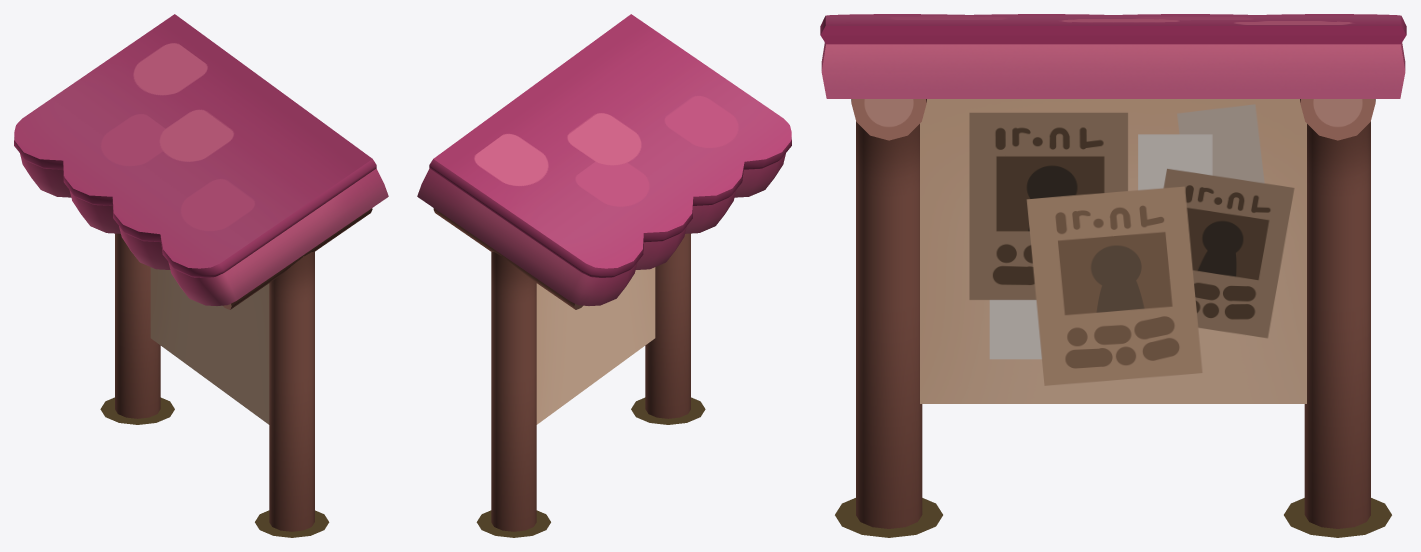
Rendered from Mu_NoteBoard.fbx.
3 renders of one model, left to right at view 1: azimuth 30°, elevation 25°; view 2: azimuth 150°, elevation 25°; view 3: azimuth 270°, elevation 25°, orthographic. The views are drawn at different scales.
Visible parts, largest first — view 1: Mu_NoteBoard_a, Mu_NoteBoard_b, Mu_NoteBoard_shadow; view 2: Mu_NoteBoard_a, Mu_NoteBoard_b, Mu_NoteBoard_shadow; view 3: Mu_NoteBoard_b, Mu_NoteBoard_a, Mu_NoteBoard_shadow.
Boxes of the visible parts, x1=… form: Mu_NoteBoard_a: x1=14, y1=14, x2=388, y2=531; Mu_NoteBoard_b: x1=150, y1=267, x2=269, y2=424; Mu_NoteBoard_shadow: x1=100, y1=397, x2=329, y2=537; Mu_NoteBoard_a: x1=417, y1=14, x2=791, y2=531; Mu_NoteBoard_b: x1=536, y1=267, x2=655, y2=424; Mu_NoteBoard_shadow: x1=476, y1=397, x2=705, y2=537; Mu_NoteBoard_b: x1=920, y1=99, x2=1306, y2=403; Mu_NoteBoard_a: x1=820, y1=14, x2=1406, y2=528; Mu_NoteBoard_shadow: x1=835, y1=498, x2=1391, y2=537.
Size of the model in its own units: 133 by 241 by 241.
Materials: 2 (1 with a texture image).
